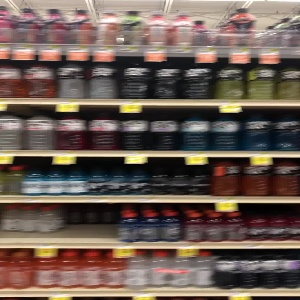void: (1, 201, 115, 246)
